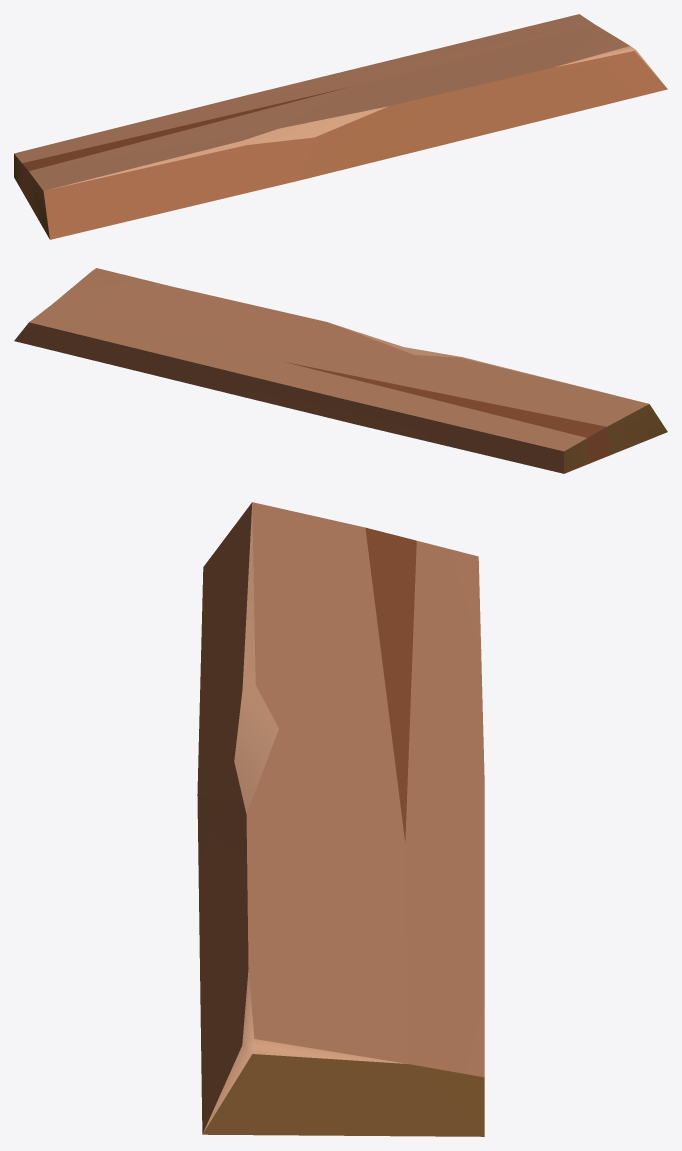
File: wood_001.fbx
3 views of the same model, one above another, from view 1: azimuth 30°, elevation 25°; view 2: azimuth 150°, elevation 25°; view 3: azimuth 270°, elevation 25° (orthographic). The views are drawn at different scales.
Visible parts, largest first — view 1: wood_001; view 2: wood_001; view 3: wood_001.
Boxes of the visible parts, <box> form: wood_001: <box>14,14,667,239</box>; wood_001: <box>14,268,667,473</box>; wood_001: <box>197,502,484,1136</box>.
Bounding box in the file's own units: 343 × 21.04 × 73.12.
